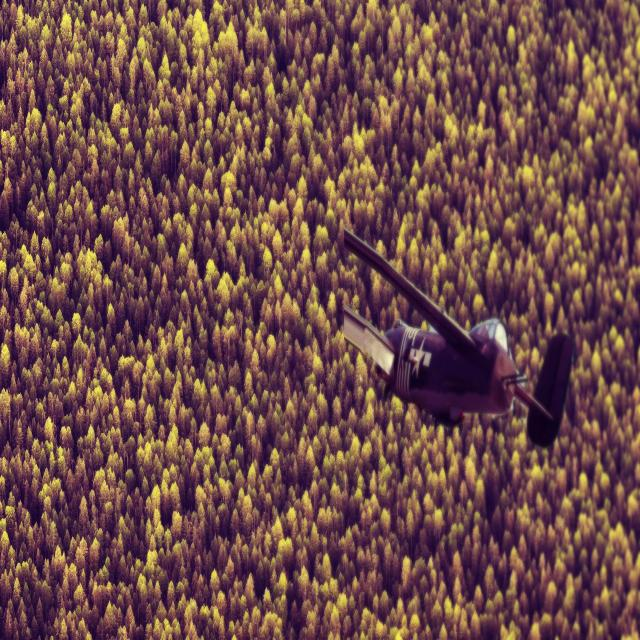airplane: (340, 227, 574, 448)
